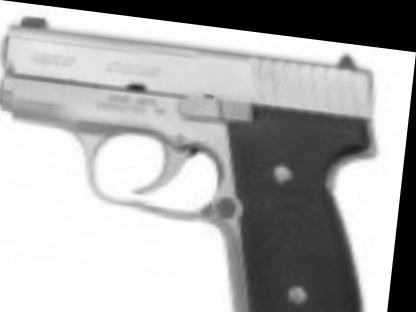pistol: (0, 8, 392, 311)
